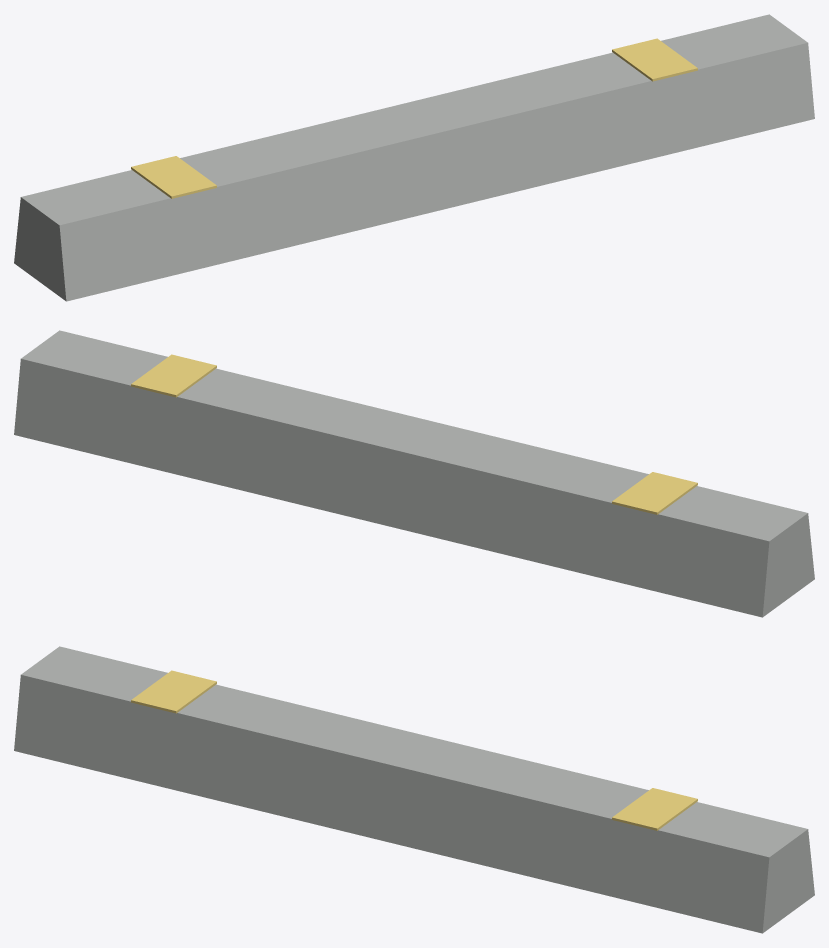
The model's file is wheel_stop.glb.
3 renders of one model, top to bottom at view 1: azimuth 30°, elevation 25°; view 2: azimuth 150°, elevation 25°; view 3: azimuth 330°, elevation 25°, orthographic.
Visible parts, largest first — view 1: VIS_Wheel_Stop_Concrete, VIS_Wheel_Stop_Stripe_1, VIS_Wheel_Stop_Stripe_2; view 2: VIS_Wheel_Stop_Concrete, VIS_Wheel_Stop_Stripe_1, VIS_Wheel_Stop_Stripe_2; view 3: VIS_Wheel_Stop_Concrete, VIS_Wheel_Stop_Stripe_2, VIS_Wheel_Stop_Stripe_1.
Part boxes in pixels (box(x1,y1,x2,y2)): VIS_Wheel_Stop_Concrete: box(14, 14, 814, 301); VIS_Wheel_Stop_Stripe_1: box(131, 156, 216, 198); VIS_Wheel_Stop_Stripe_2: box(612, 38, 697, 81); VIS_Wheel_Stop_Concrete: box(14, 330, 814, 617); VIS_Wheel_Stop_Stripe_1: box(612, 472, 697, 514); VIS_Wheel_Stop_Stripe_2: box(131, 354, 216, 397); VIS_Wheel_Stop_Concrete: box(14, 646, 814, 933); VIS_Wheel_Stop_Stripe_2: box(612, 788, 697, 830); VIS_Wheel_Stop_Stripe_1: box(131, 670, 216, 713).
Bounding box in the file's own units: 1.65 × 0.155 × 0.2.
